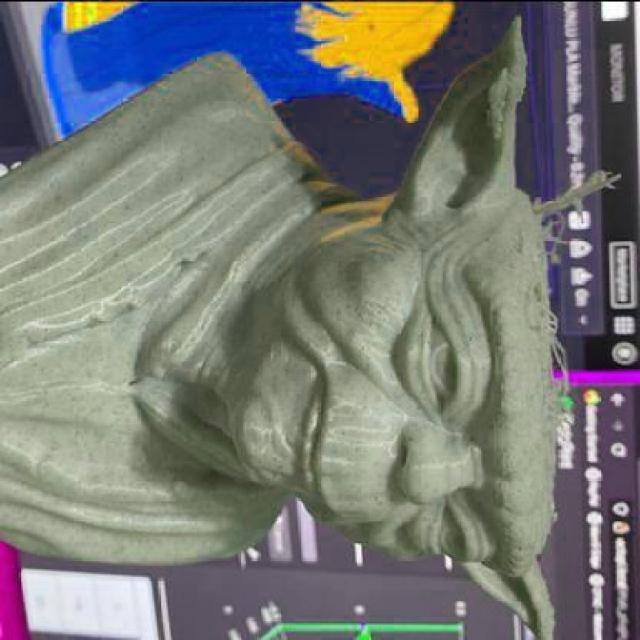spaghetti: (537, 169, 625, 265), (538, 304, 575, 441)
